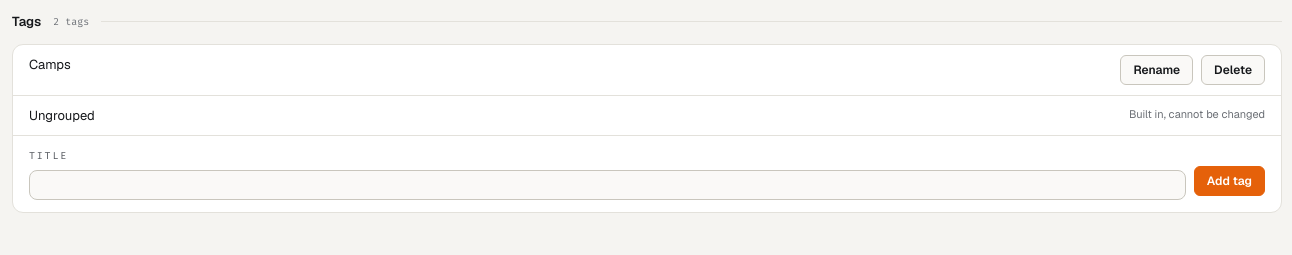
ModelTagsCard › shows a 400 from the server on the add form
Expected: the text "Camps" is shown, [29,54,71,74]
Type "Camps" into the field labelled "Title" at (607, 185), box [29,170,1186,200]
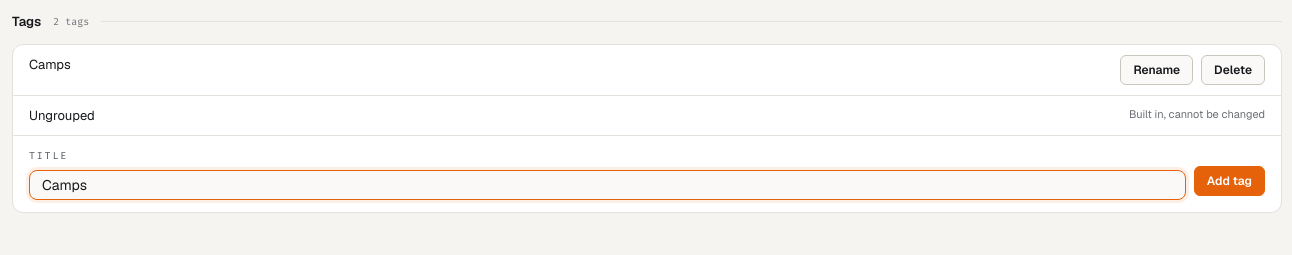
Click the button "Add tag" at (1229, 181), box [1194,166,1265,196]
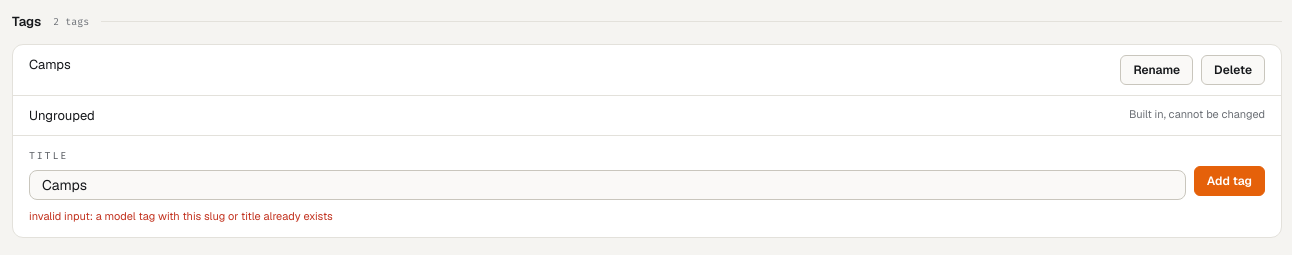
Result: the message shows "a model tag with this slug or title already exists" at [29,209,333,223]
